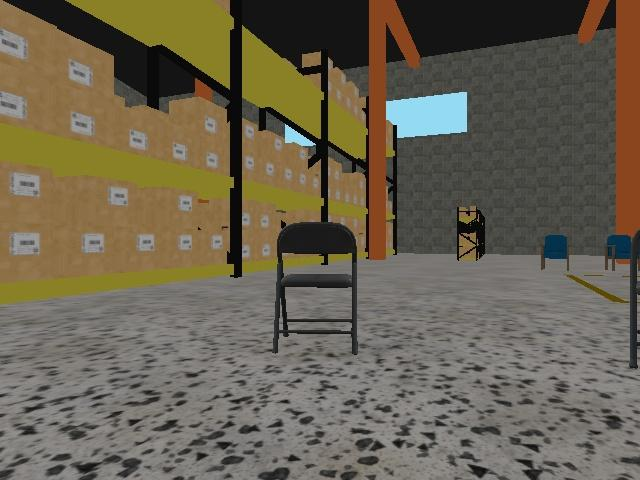chair: (273, 222, 359, 355), (604, 234, 640, 271), (540, 234, 571, 272)
